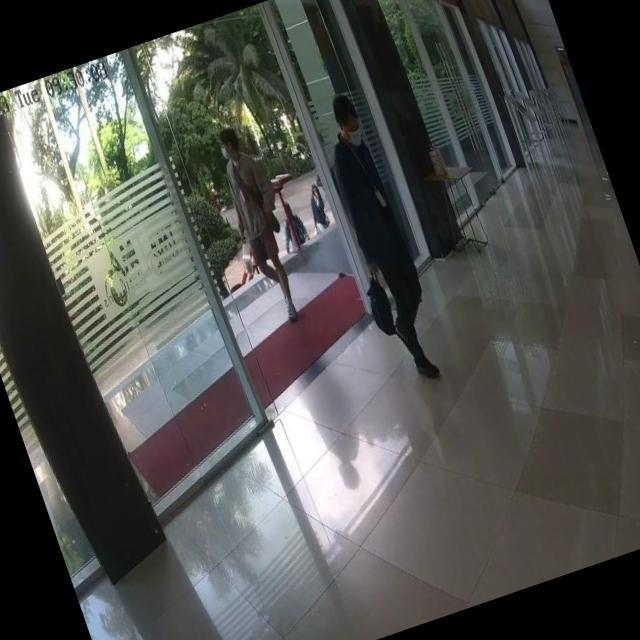person: (308, 90, 452, 387), (210, 122, 313, 328)
